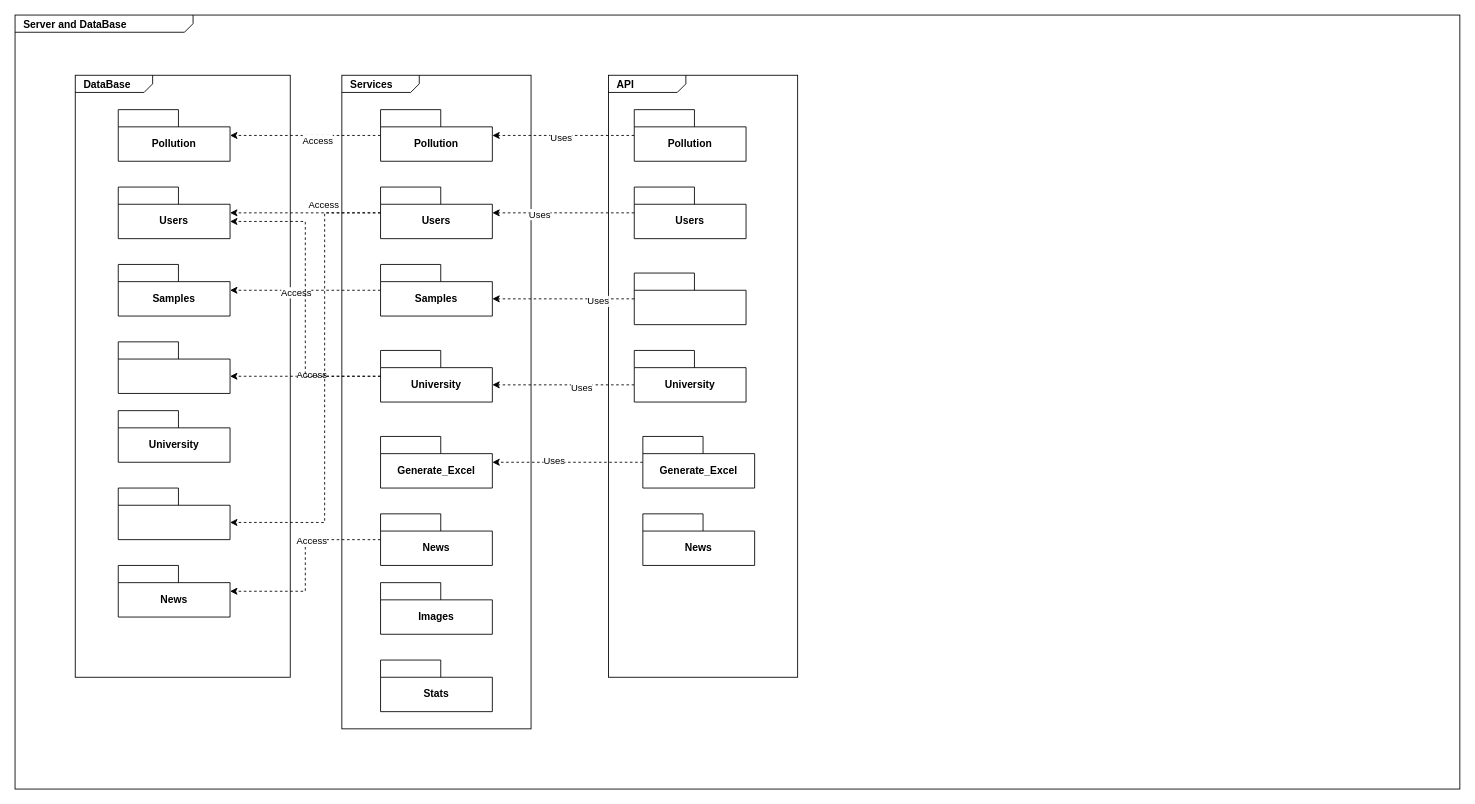
Some shapes in this 1475 by 804 pixel diagram are drawn without their labels. Each missing label, with the centre of its shape:
"Role" belongs at point 173,367.
"Sample" belongs at point 689,298.
"UserComments" belongs at point 173,513.
